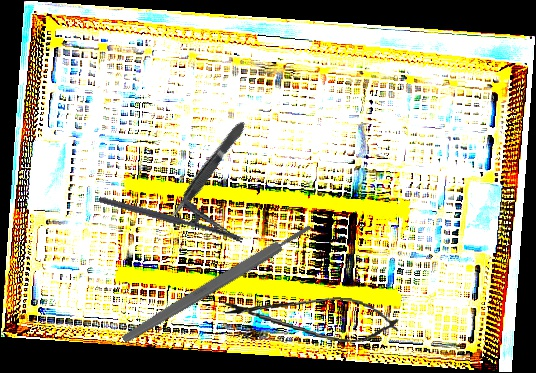Micro Scissor: (219, 287, 403, 347)
Needle Holder: (98, 176, 249, 244)
Scalpel Handle: (120, 221, 314, 346)
Tissue Forceps: (164, 119, 251, 223)
